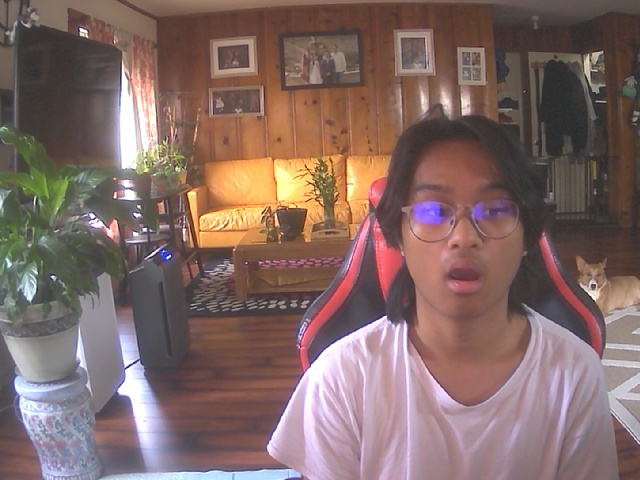fear: (392, 121, 537, 321)
